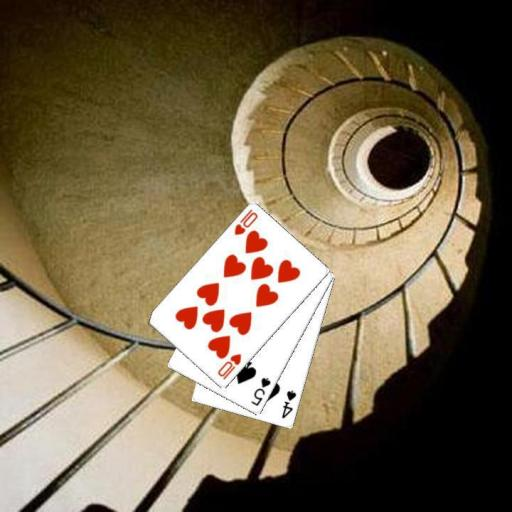card-corner: (231, 206, 260, 237), (215, 351, 242, 381), (248, 375, 272, 407), (279, 388, 298, 420)
